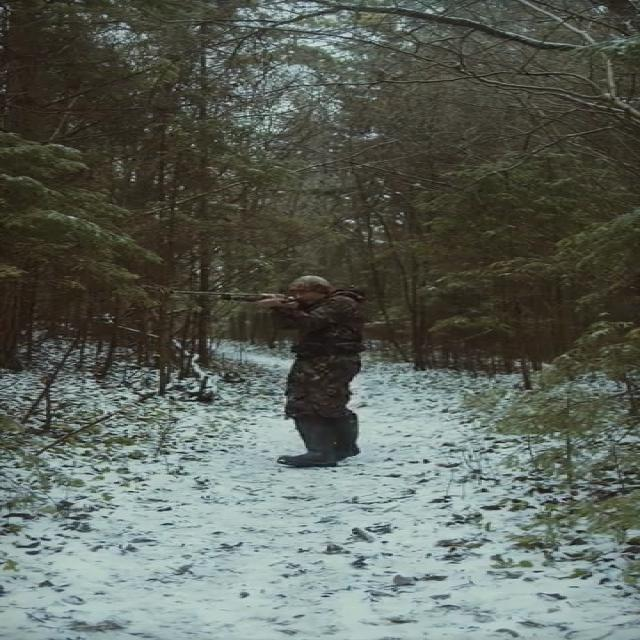Gun_Holder: (162, 284, 302, 311)
Person: (262, 271, 380, 465)
